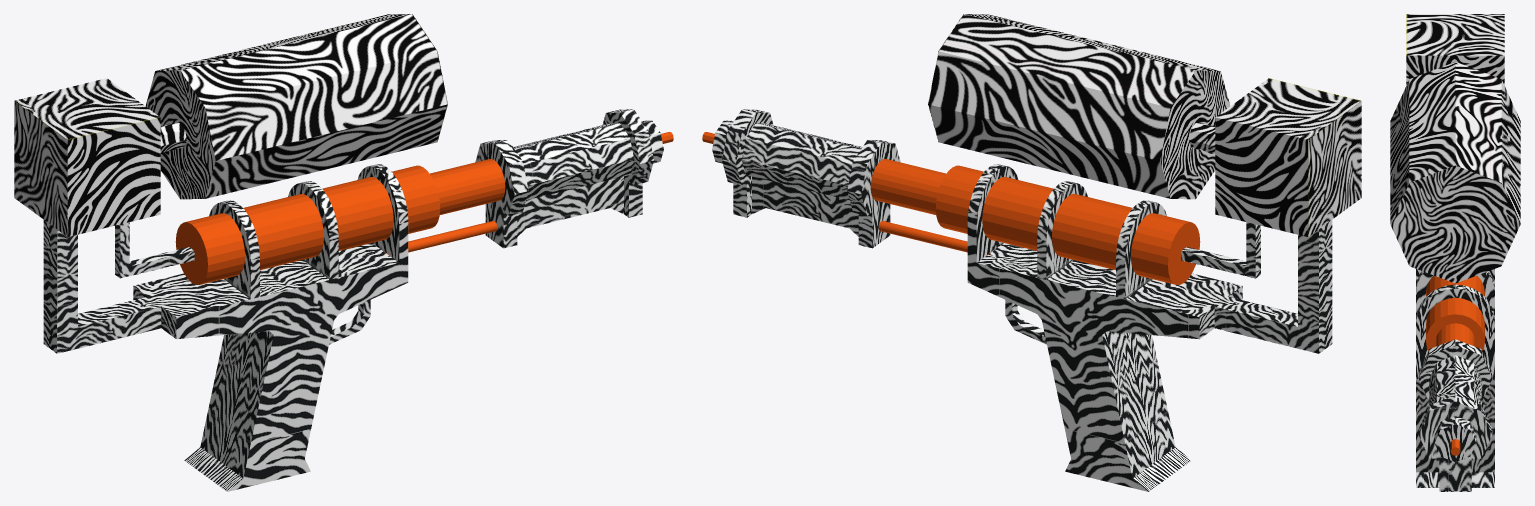
File: Watergun_zebra.FBX
3 renders of one model, left to right at view 1: azimuth 30°, elevation 25°; view 2: azimuth 150°, elevation 25°; view 3: azimuth 270°, elevation 25°, orthographic. The views are drawn at different scales.
Parts seen in each view (by area): view 1: Depósito, Estructura, Empuñadura, Cubo depósito, Cilindro; view 2: Depósito, Estructura, Empuñadura, Cubo depósito, Cilindro; view 3: Depósito, Estructura, Cubo depósito, Cilindro, Empuñadura.
Boxes of the visible parts, x1=… form: Depósito: x1=145, y1=14, x2=447, y2=199; Estructura: x1=43, y1=109, x2=663, y2=353; Empuñadura: x1=176, y1=222, x2=408, y2=491; Cubo depósito: x1=14, y1=78, x2=160, y2=236; Cilindro: x1=175, y1=132, x2=673, y2=284; Depósito: x1=928, y1=14, x2=1230, y2=199; Estructura: x1=712, y1=109, x2=1332, y2=353; Empuñadura: x1=967, y1=222, x2=1241, y2=491; Cubo depósito: x1=1215, y1=78, x2=1361, y2=236; Cilindro: x1=702, y1=132, x2=1200, y2=284; Depósito: x1=1390, y1=62, x2=1520, y2=283; Estructura: x1=1416, y1=269, x2=1494, y2=491; Cubo depósito: x1=1406, y1=14, x2=1504, y2=85; Cilindro: x1=1426, y1=275, x2=1484, y2=455; Empuñadura: x1=1416, y1=380, x2=1494, y2=487.
Bounding box in the file's own units: 13.57 × 8.47 × 2.65.
5 materials, 4 textured.
